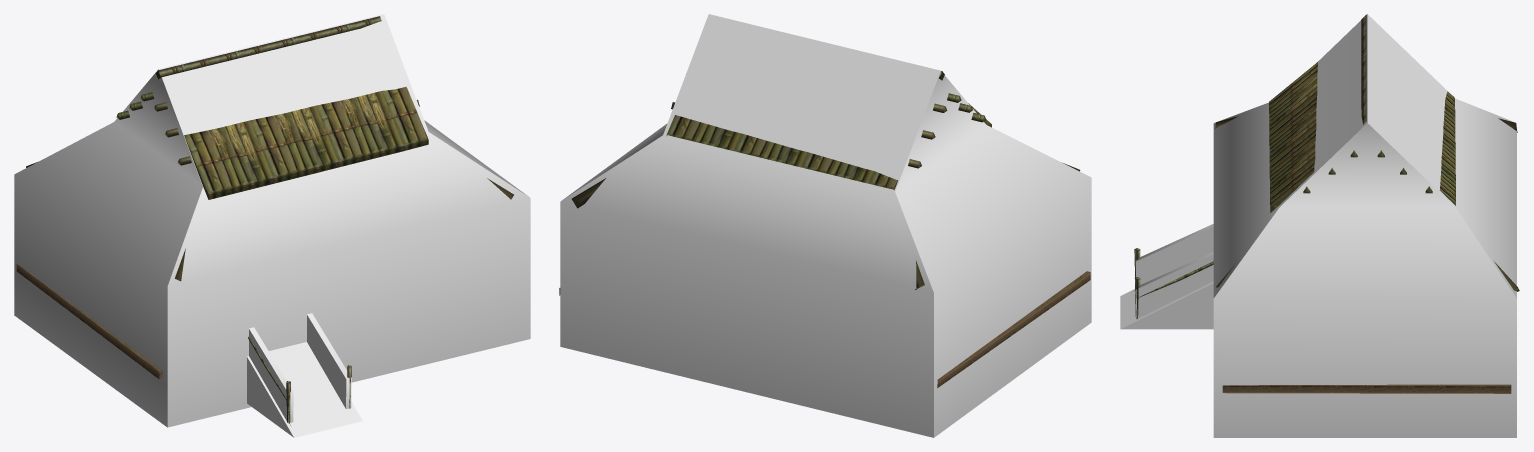
File: YHJ_zhuwu.FBX
3 renders of one model, left to right at view 1: azimuth 30°, elevation 25°; view 2: azimuth 150°, elevation 25°; view 3: azimuth 270°, elevation 25°, orthographic. The views are drawn at different scales.
Parts seen in each view (by area): view 1: YHJ_zhuwu-col, YHJ_zhuwu_a; view 2: YHJ_zhuwu-col, YHJ_zhuwu_a; view 3: YHJ_zhuwu-col, YHJ_zhuwu_a.
Boxes of the visible parts, x1,y1,x2,y2 form: YHJ_zhuwu-col: [14, 14, 530, 437]; YHJ_zhuwu_a: [16, 16, 513, 426]; YHJ_zhuwu-col: [560, 14, 1091, 437]; YHJ_zhuwu_a: [559, 71, 1090, 387]; YHJ_zhuwu-col: [1120, 14, 1516, 437]; YHJ_zhuwu_a: [1134, 14, 1519, 393].
Size of the model in its own units: 15.03 by 11.04 by 14.19.
